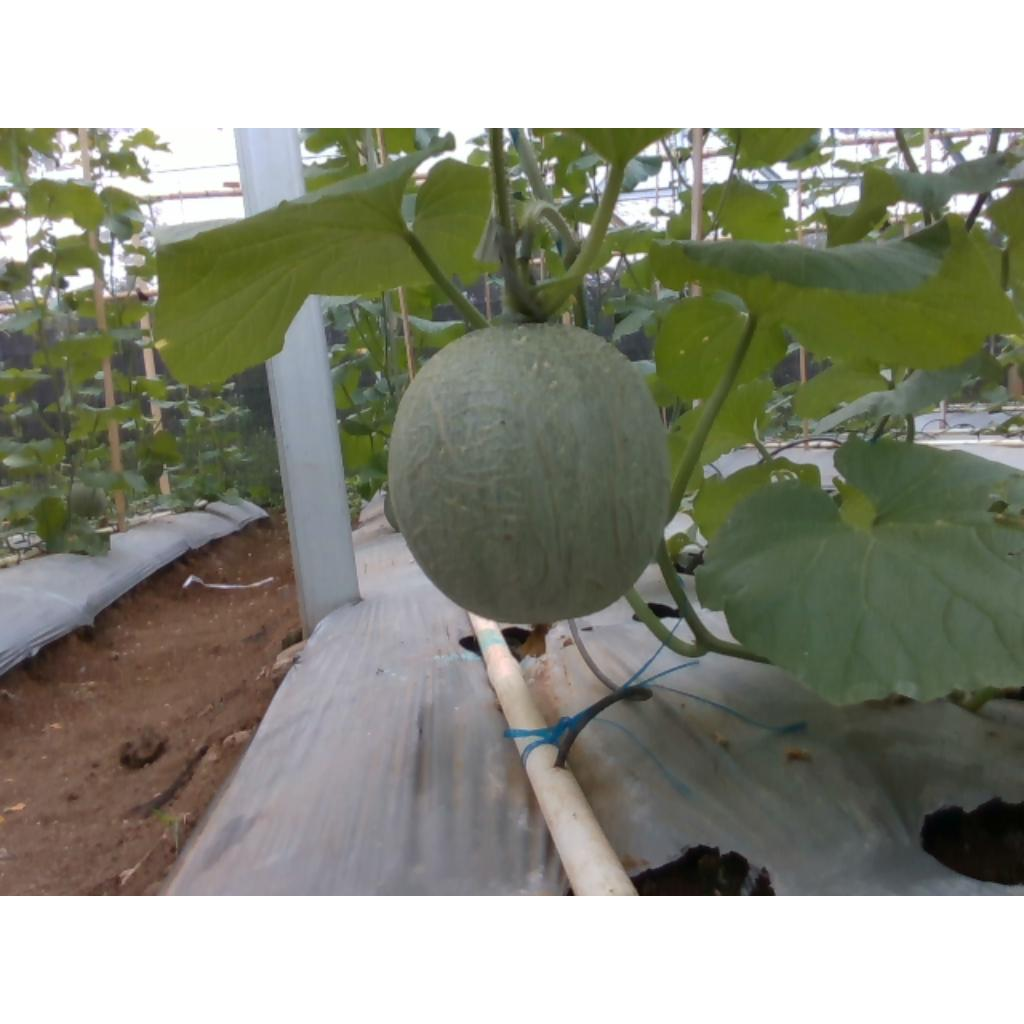melon: (390, 323, 670, 623)
